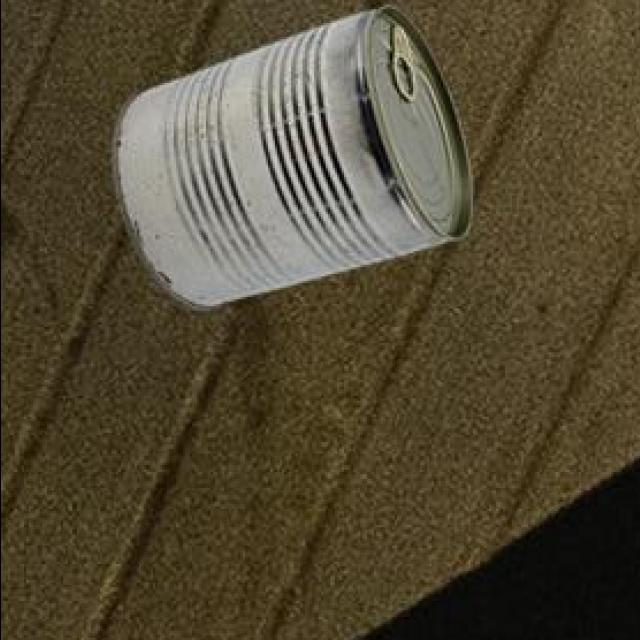logam: (116, 3, 473, 305)
